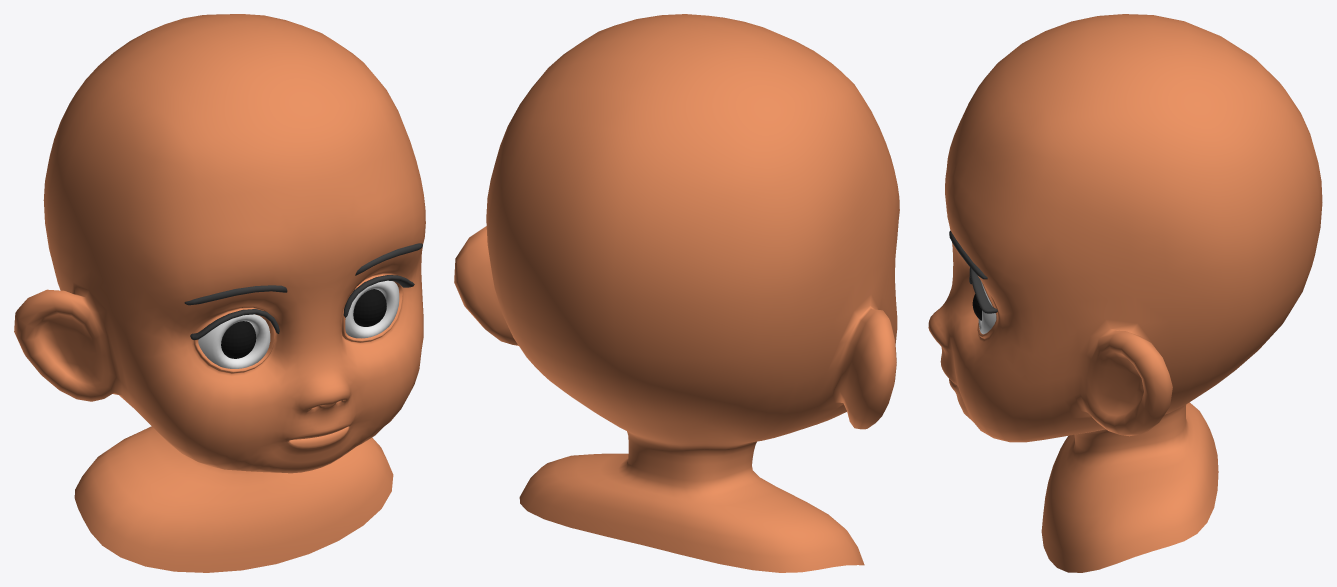
File: baby2.fbx
3 views of the same model, side by side, from view 1: azimuth 30°, elevation 25°; view 2: azimuth 150°, elevation 25°; view 3: azimuth 270°, elevation 25° (orthographic). The views are drawn at different scales.
Parts seen in each view (by area): view 1: Baby_head, Sphere.001, Sphere; view 2: Baby_head; view 3: Baby_head.
Boxes of the visible parts, left/top/right/bottom form: Baby_head: left=14, top=14, right=425, bottom=572; Sphere.001: left=221, top=321, right=256, bottom=358; Sphere: left=353, top=289, right=386, bottom=326; Baby_head: left=454, top=14, right=899, bottom=572; Baby_head: left=928, top=14, right=1322, bottom=572.
Bounding box in the file's own units: 170 × 201 × 144.
